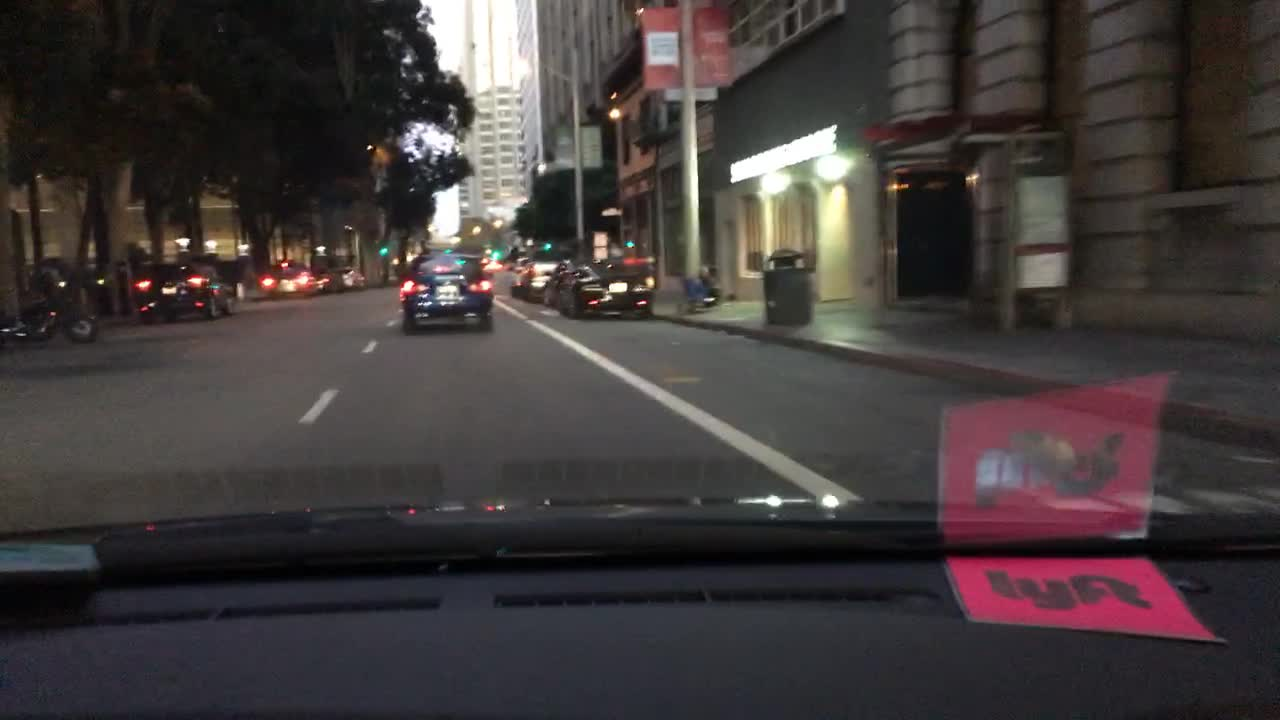car: (399, 248, 494, 331), (135, 255, 237, 326), (557, 249, 651, 319), (543, 257, 600, 310), (260, 259, 317, 300), (506, 259, 560, 301), (318, 265, 366, 293)
motor: (2, 264, 99, 352)
traffic light: (378, 243, 388, 258), (624, 237, 632, 249), (542, 238, 548, 252)
traffic sign: (593, 232, 608, 262)
